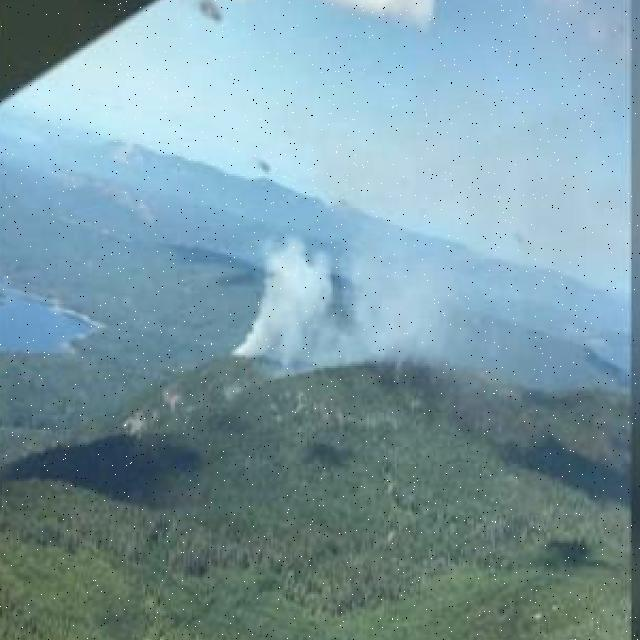smoke: (222, 217, 437, 385)
